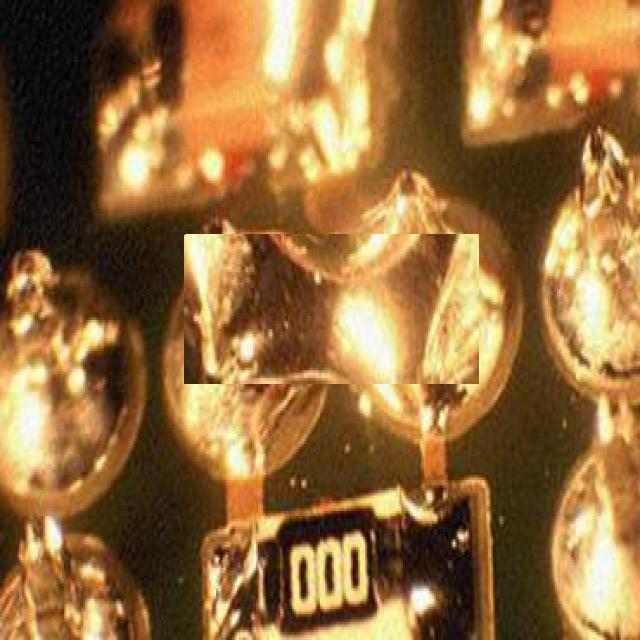Short_circuit: (185, 235, 479, 383)
